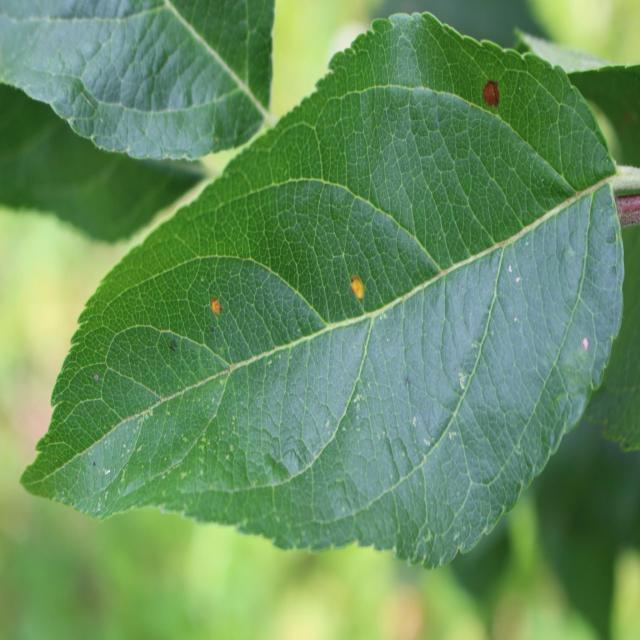Black Rot: (476, 54, 510, 114)
Rust: (339, 258, 381, 326), (197, 286, 231, 325)
